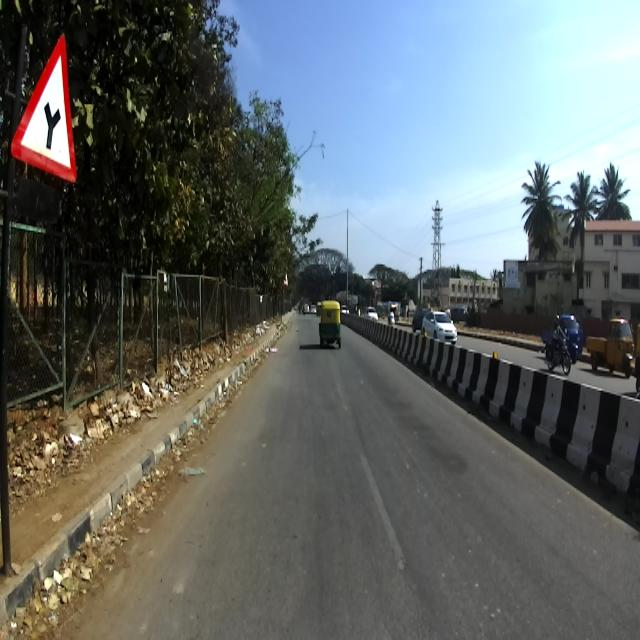auto ahead at: (316, 299, 349, 358)
sign board ahead at: (7, 29, 83, 191)
